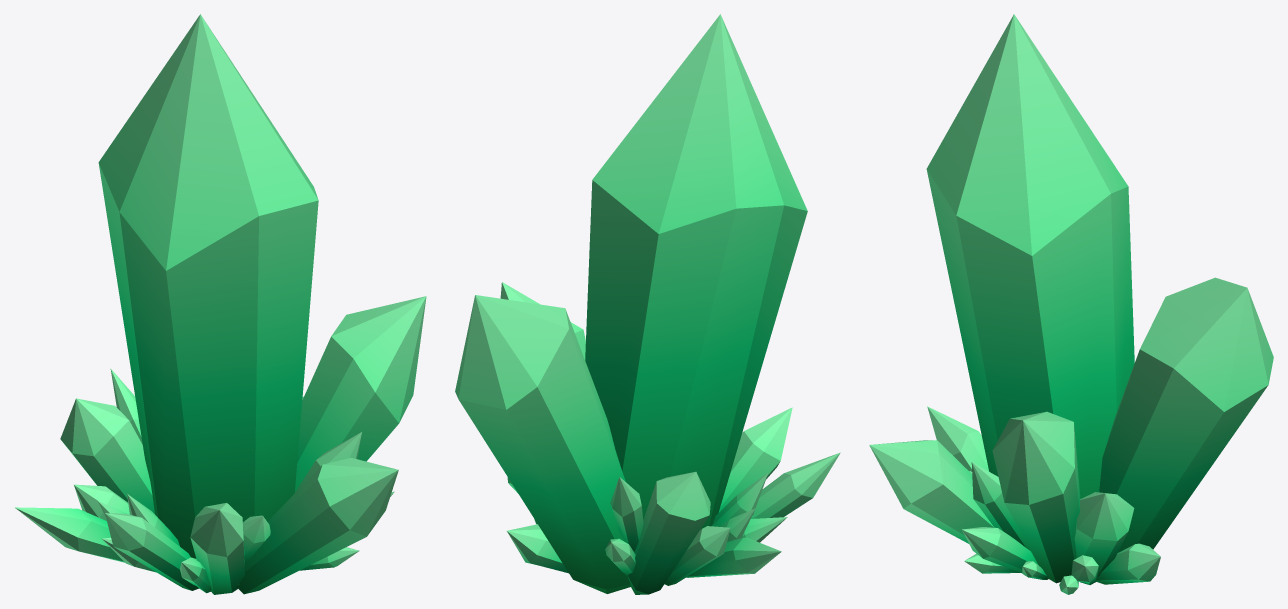
The model's file is crystal_breakable2.fbx.
The picture shows the model from 3 angles, left to right: view 1: azimuth 30°, elevation 25°; view 2: azimuth 150°, elevation 25°; view 3: azimuth 270°, elevation 25°; orthographic projection. The views are drawn at different scales.
Visible parts, largest first — view 1: crystal_breakable2; view 2: crystal_breakable2; view 3: crystal_breakable2.
Boxes of the visible parts, x1,y1,x2,y2 form: crystal_breakable2: [15, 14, 426, 594]; crystal_breakable2: [455, 14, 840, 594]; crystal_breakable2: [869, 14, 1273, 594].
Bounding box in the file's own units: 9.24 × 14.81 × 10.15.
